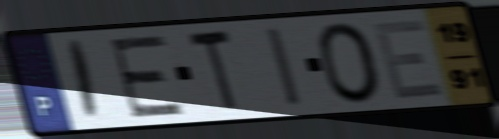E: (106, 32, 188, 121), (370, 16, 449, 102)
I: (262, 24, 306, 110), (67, 37, 102, 123)
O: (314, 19, 386, 106)
T: (184, 26, 240, 116)
